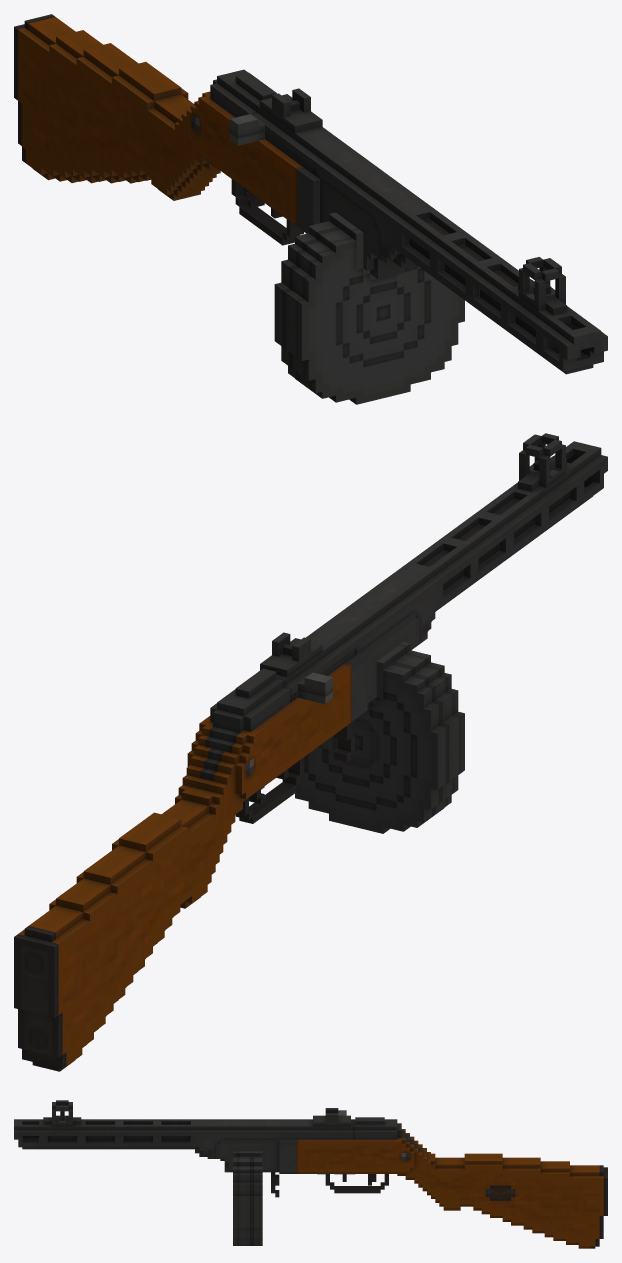
Rendered from RD_PPSH.glb.
3 views of the same model, one above another, from view 1: azimuth 30°, elevation 25°; view 2: azimuth 150°, elevation 25°; view 3: azimuth 270°, elevation 25° (orthographic). The views are drawn at different scales.
Visible parts, largest first — view 1: PPSH, PPSH_CLIP, PPSH_BOLT; view 2: PPSH, PPSH_CLIP, PPSH_BOLT; view 3: PPSH, PPSH_CLIP.
Boxes of the visible parts, x1,y1,x2,y2 form: PPSH: (14, 14, 607, 374); PPSH_CLIP: (274, 212, 464, 404); PPSH_BOLT: (230, 114, 264, 145); PPSH: (14, 433, 607, 1071); PPSH_CLIP: (295, 641, 464, 833); PPSH_BOLT: (298, 672, 332, 704); PPSH: (14, 1100, 607, 1248); PPSH_CLIP: (233, 1151, 262, 1245).
Size of the model in its own units: 0.2362 by 0.3642 by 1.39.
Materials: 1 (1 with a texture image).
